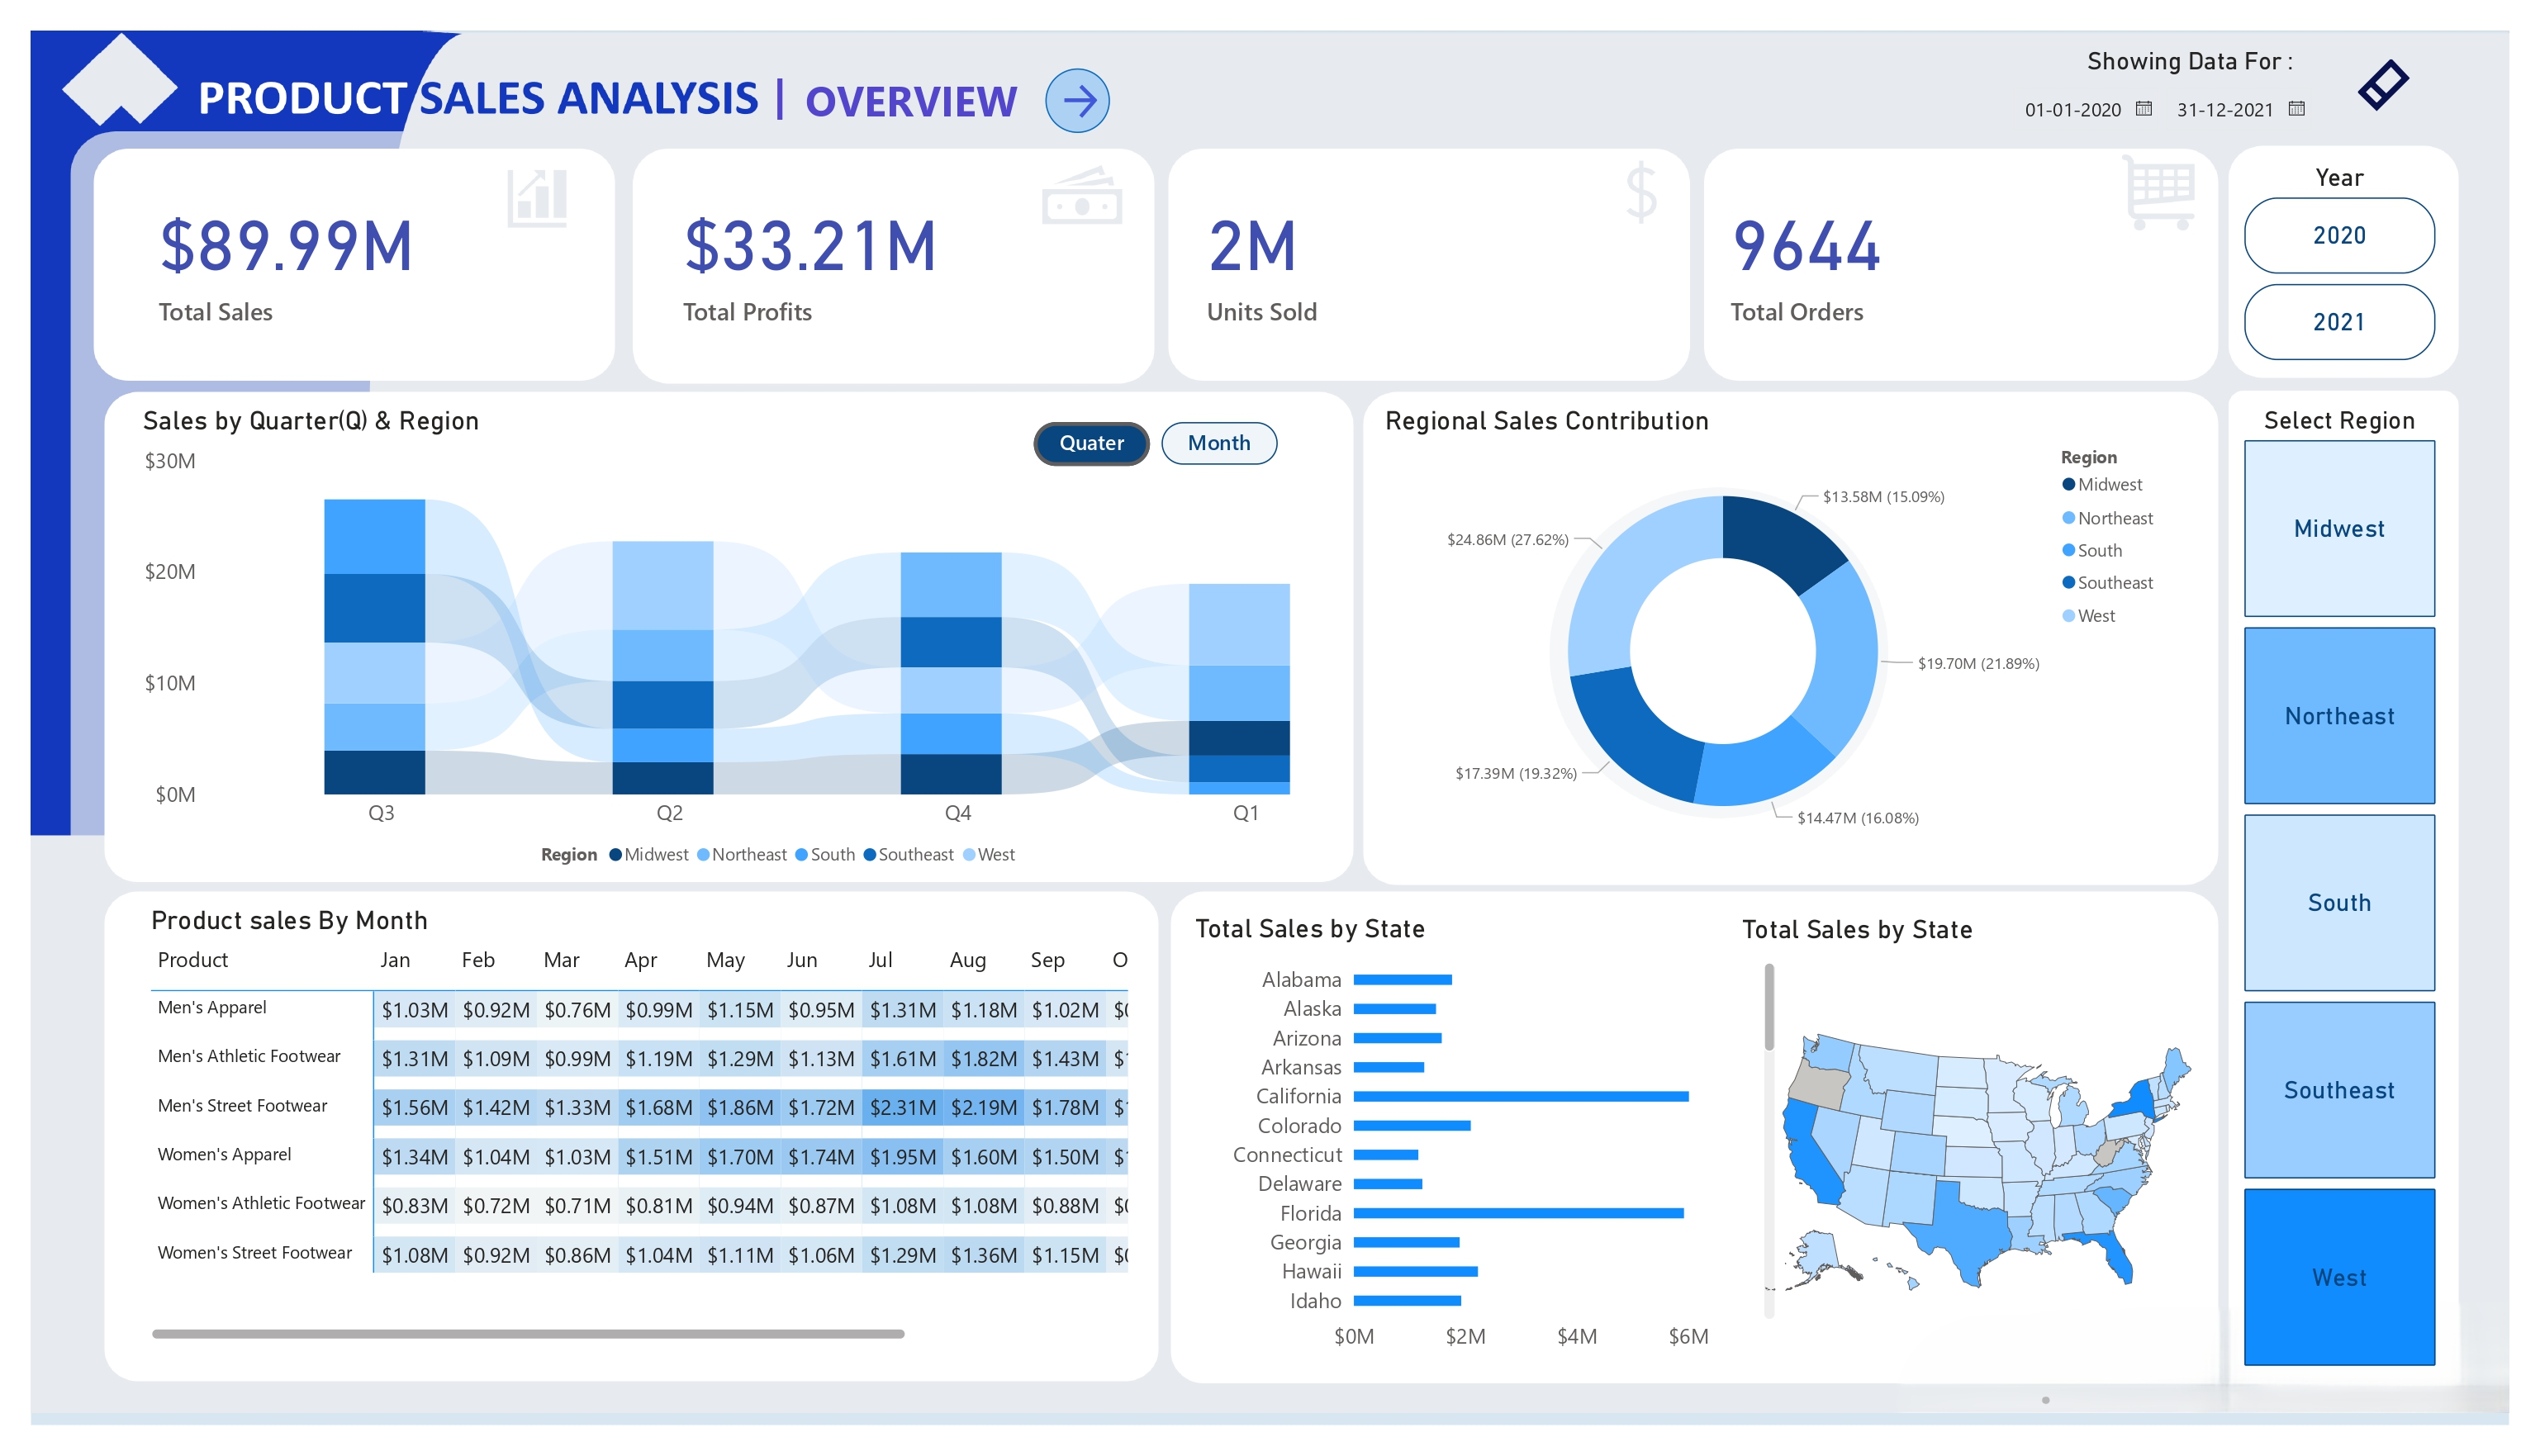

What the dashboard file says about the page in this screenshot:
{"tool":"powerbi","page":{"name":"Overview","canvas":[1920,1080],"ordinal":0},"visuals":[{"type":"cardVisual","fields":{"Data":["_Measures.Total Sales","_Measures.Total Profits","_Measures.Units Sold","_Measures.Total Orders"]},"box":[82.3,96.7,1628.1,168.8],"z":0},{"type":"ribbonChart","title":"Sales by Quarter(Q) & Region","fields":{"Category":["dim_Calendar.Quarter(Q)"],"Y":["_Measures.Total Sales"],"Series":["dim_Region.Region"]},"box":[82.3,290.2,998.3,366.4],"z":1000},{"type":"actionButton","title":"Month Disable","box":[875.6,303.4,90.6,32.9],"z":4000},{"type":"actionButton","title":"Quarter Enable","box":[776.7,303.3,90,33.3],"z":6000},{"type":"donutChart","title":"Regional Sales Contribution","fields":{"Y":["_Measures.Total Sales"],"Category":["dim_Region.Region"]},"box":[1043.6,290,615.5,355.5],"z":7000},{"type":"pivotTable","title":"Product sales By Month","fields":{"Rows":["dim_Product.Product"],"Columns":["dim_Calendar.MonthName"],"Values":["_Measures.Total Sales"]},"box":[83.3,666.7,783.3,366.7],"z":8000},{"type":"barChart","fields":{"Y":["_Measures.Total Sales"],"Category":["dim_Region.State"]},"box":[896.7,683.3,454.4,350],"z":9000},{"type":"shapeMap","fields":{"Value":["_Measures.Total Sales"],"Category":["dim_Region.State"]},"box":[1321.1,684.4,375.6,358.9],"z":10000},{"type":"advancedSlicerVisual","title":"Select Region","fields":{"Values":["dim_Region.Region"]},"box":[1710,290,158,752],"z":11000},{"type":"advancedSlicerVisual","fields":{"Values":["dim_Calendar.Year"]},"box":[1710,102.2,157.8,157.8],"z":12000},{"type":"actionButton","box":[1798.9,12.2,47.8,58.9],"z":13000},{"type":"slicer","title":"Showing Data For :","fields":{"Values":["dim_Calendar.Date"]},"box":[1523.3,11.7,300,76.7],"z":14000},{"type":"actionButton","box":[794.6,36.9,41.5,34.6],"z":15000},{"type":"textbox","box":[570,21.4,50,57.1],"z":16000},{"type":"textbox","box":[595.3,26,350,62.7],"z":17000},{"type":"shape","box":[785.7,29.3,50,50],"z":18000}]}

Visuals, with their boxes in screenshot pixels (x1, y1, x2, y2):
cardVisual - _Measures.Total Sales x _Measures.Total Profits: x1=137 y1=156 x2=2239 y2=373
"Sales by Quarter(Q) & Region" ribbonChart: x1=137 y1=405 x2=1426 y2=879
"Month Disable" actionButton: x1=1161 y1=423 x2=1278 y2=465
"Quarter Enable" actionButton: x1=1033 y1=423 x2=1150 y2=466
"Regional Sales Contribution" donutChart: x1=1378 y1=405 x2=2172 y2=864
"Product sales By Month" pivotTable: x1=139 y1=892 x2=1150 y2=1365
barChart - _Measures.Total Sales x dim_Region.State: x1=1189 y1=913 x2=1775 y2=1364
shapeMap - _Measures.Total Sales x dim_Region.State: x1=1736 y1=914 x2=2221 y2=1378
"Select Region" advancedSlicerVisual: x1=2238 y1=405 x2=2442 y2=1376
advancedSlicerVisual - dim_Calendar.Year: x1=2238 y1=163 x2=2442 y2=367
actionButton: x1=2352 y1=47 x2=2414 y2=123
"Showing Data For :" slicer: x1=1997 y1=46 x2=2384 y2=145
actionButton: x1=1056 y1=78 x2=1110 y2=123
textbox: x1=767 y1=59 x2=831 y2=132
textbox: x1=800 y1=64 x2=1251 y2=145
shape: x1=1045 y1=69 x2=1109 y2=133
